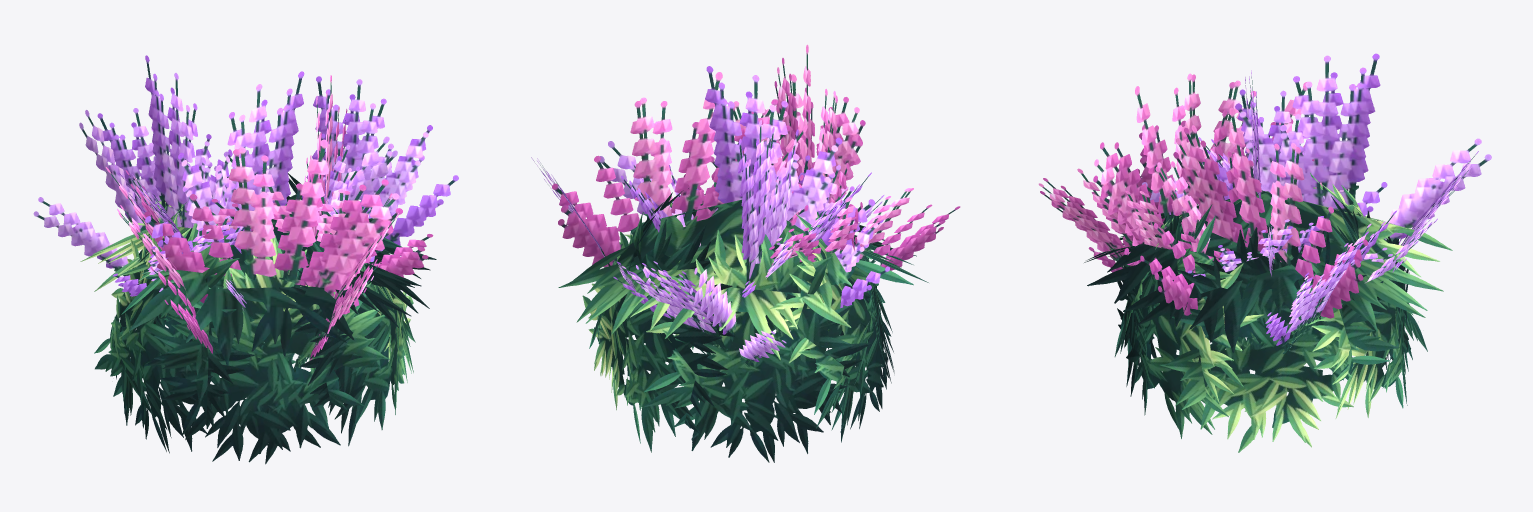
The model's file is shrub_heather.glb.
3 renders of one model, left to right at view 1: azimuth 30°, elevation 25°; view 2: azimuth 150°, elevation 25°; view 3: azimuth 270°, elevation 25°, orthographic. The views are drawn at different scales.
Parts seen in each view (by area): view 1: shrub_heather; view 2: shrub_heather; view 3: shrub_heather.
Boxes of the visible parts, box(x1,y1,x2,y2) form: shrub_heather: box(33, 55, 458, 464); shrub_heather: box(531, 44, 960, 462); shrub_heather: box(1038, 53, 1491, 452).
Size of the model in its own units: 1.29 by 1.03 by 1.28.
Materials: 1 (1 with a texture image).
